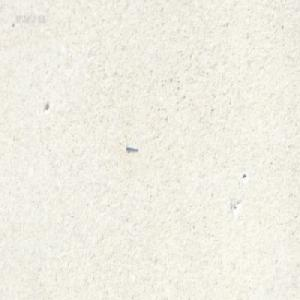Nail: (124, 142, 137, 150)
